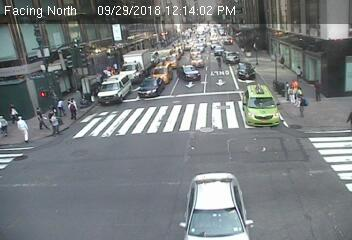car: (179, 174, 253, 240), (242, 84, 280, 126), (96, 75, 132, 103), (120, 49, 151, 76), (138, 77, 164, 97), (176, 64, 201, 80), (237, 61, 256, 82), (151, 66, 172, 84), (190, 52, 203, 68), (224, 52, 240, 64), (162, 56, 178, 68), (149, 51, 160, 67), (169, 48, 183, 59), (212, 45, 226, 56), (196, 25, 206, 37), (195, 42, 205, 52), (209, 40, 221, 48), (217, 28, 227, 36)
